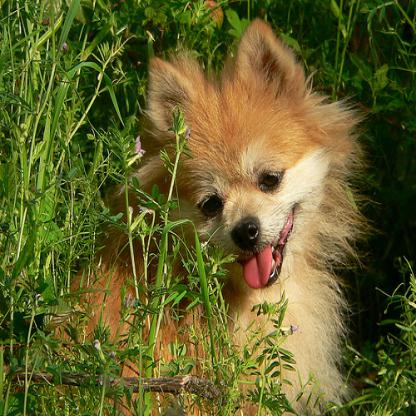dog: (60, 18, 383, 415)
